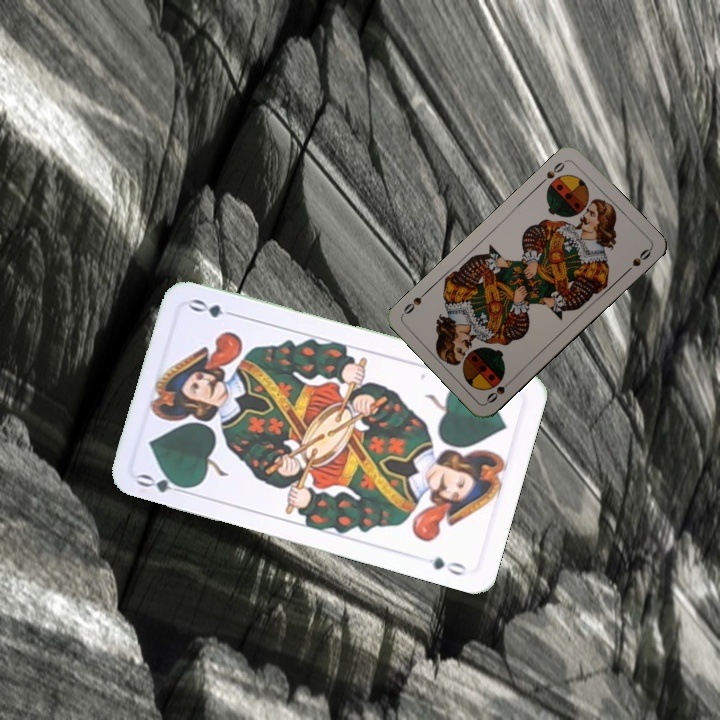GO: (133, 469, 193, 497)
SO: (482, 375, 516, 406), (536, 156, 570, 187)
